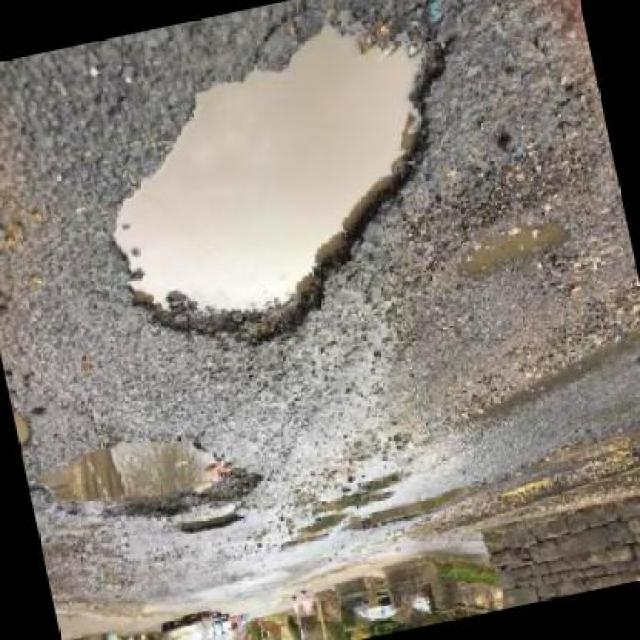pothole1: (71, 0, 506, 382), (34, 414, 271, 546), (447, 208, 581, 288), (176, 504, 250, 542), (13, 406, 36, 451)
